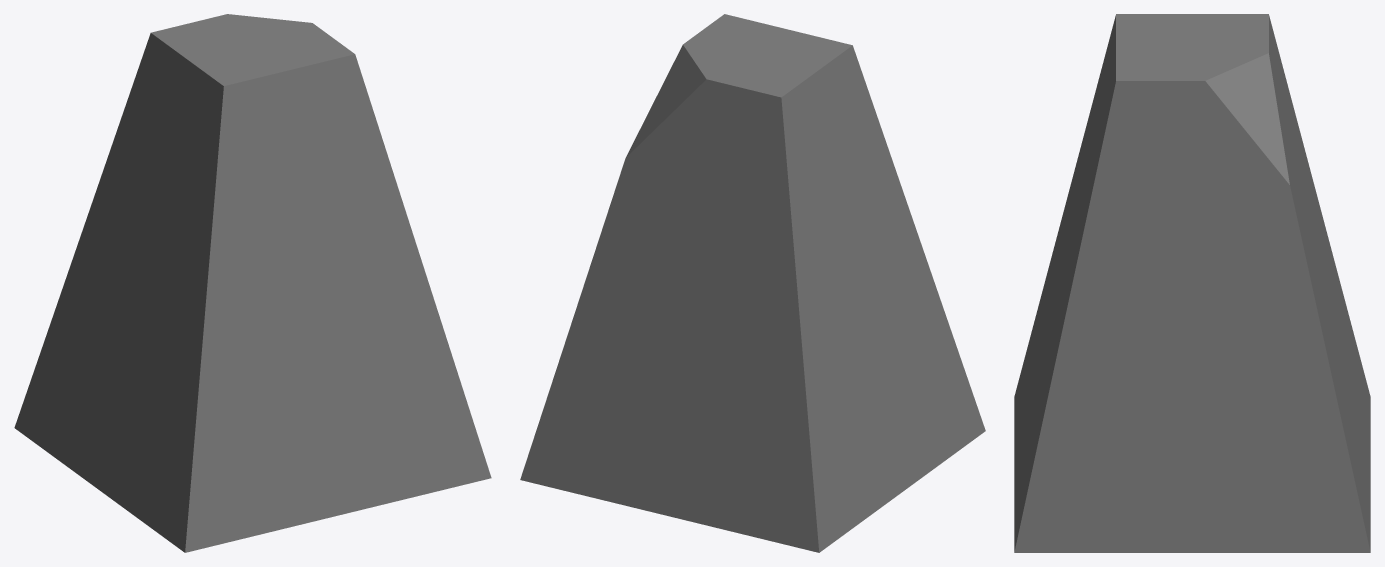
File: Stone 2.fbx
3 views of the same model, side by side, from view 1: azimuth 30°, elevation 25°; view 2: azimuth 150°, elevation 25°; view 3: azimuth 270°, elevation 25° (orthographic). The views are drawn at different scales.
Parts seen in each view (by area): view 1: Stone_2; view 2: Stone_2; view 3: Stone_2.
Part boxes in pixels (bbox=[...]): Stone_2: bbox=[14, 14, 491, 552]; Stone_2: bbox=[520, 14, 985, 552]; Stone_2: bbox=[1014, 14, 1370, 552].
Size of the model in its own units: 1.52 by 1.94 by 1.46.
